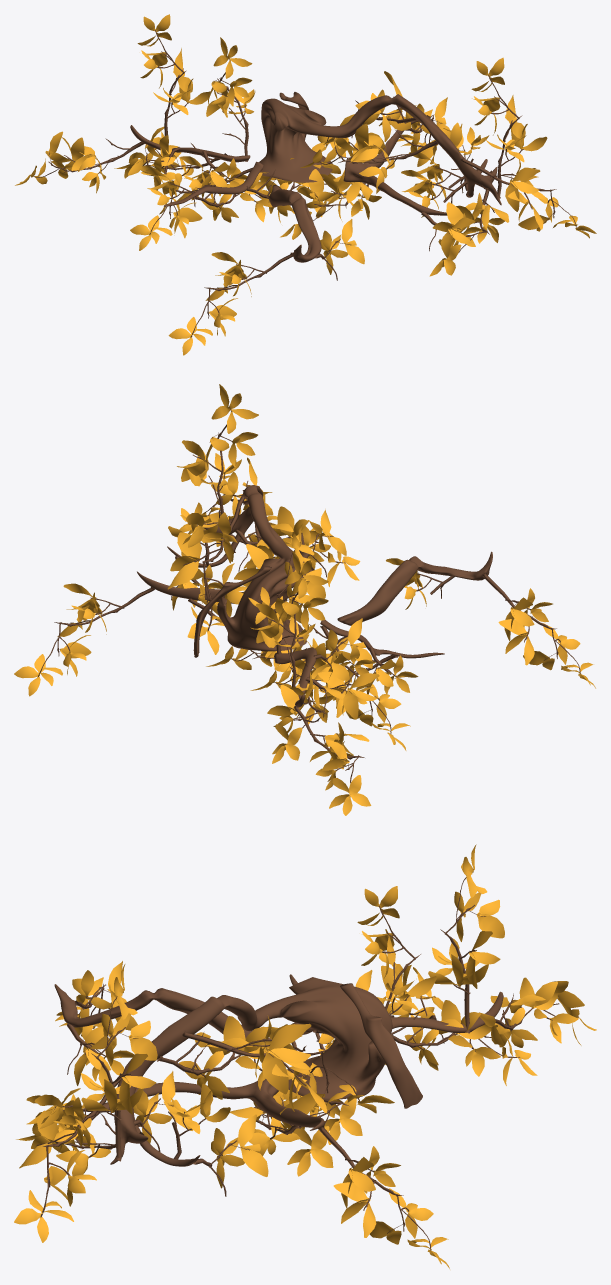
File: FireTree3.fbx
3 views of the same model, one above another, from view 1: azimuth 30°, elevation 25°; view 2: azimuth 150°, elevation 25°; view 3: azimuth 270°, elevation 25° (orthographic). The views are drawn at different scales.
Visible parts, largest first — view 1: Life_tree_03; view 2: Life_tree_03; view 3: Life_tree_03.
Part boxes in pixels (x1,y1,x2,y2): Life_tree_03: [15, 14, 596, 355]; Life_tree_03: [14, 384, 595, 815]; Life_tree_03: [14, 844, 596, 1268].
Bounding box in the file's own units: 546 × 271 × 528.
